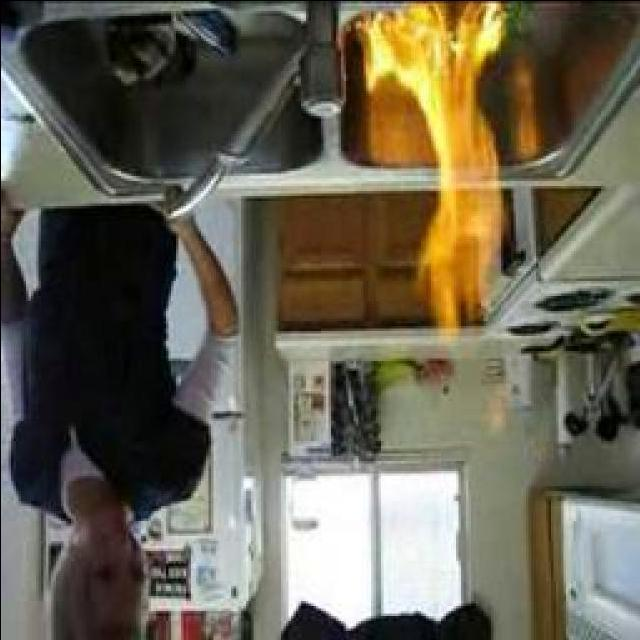Fire: (369, 4, 507, 332)
